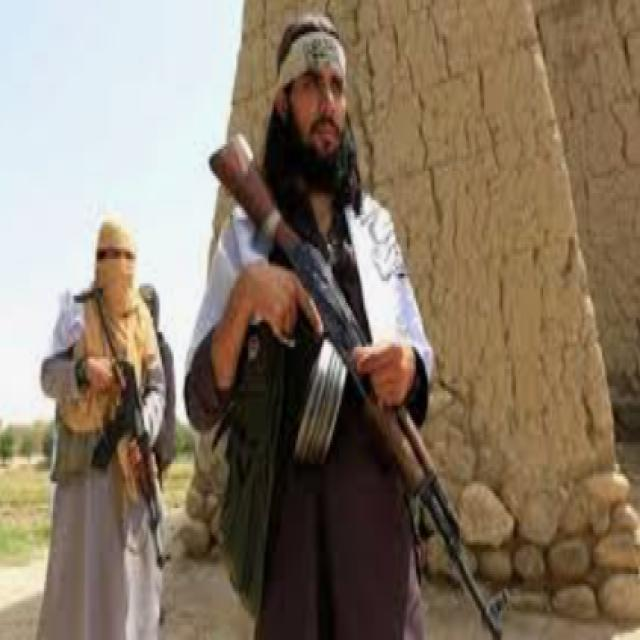terrorist: (182, 15, 506, 638), (36, 215, 170, 638), (141, 283, 174, 484)
